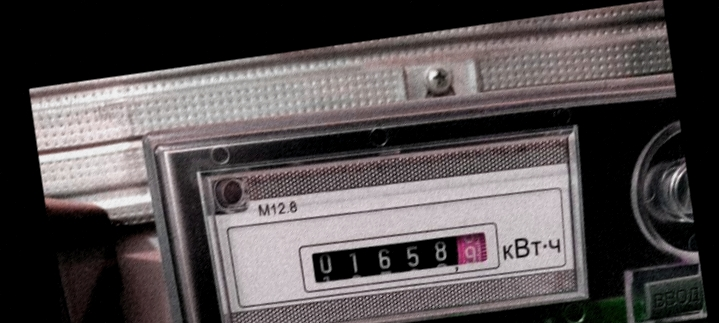0: (317, 251, 333, 275)
1: (347, 251, 360, 274)
5: (404, 243, 421, 268)
6: (375, 246, 392, 270)
8: (432, 238, 449, 262)
9: (461, 243, 477, 266)
screen: (291, 212, 510, 301)
